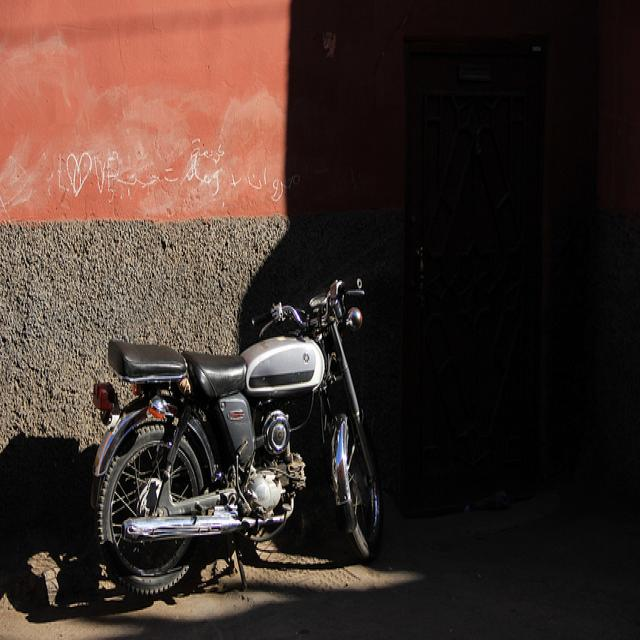motor: (92, 278, 384, 594)
